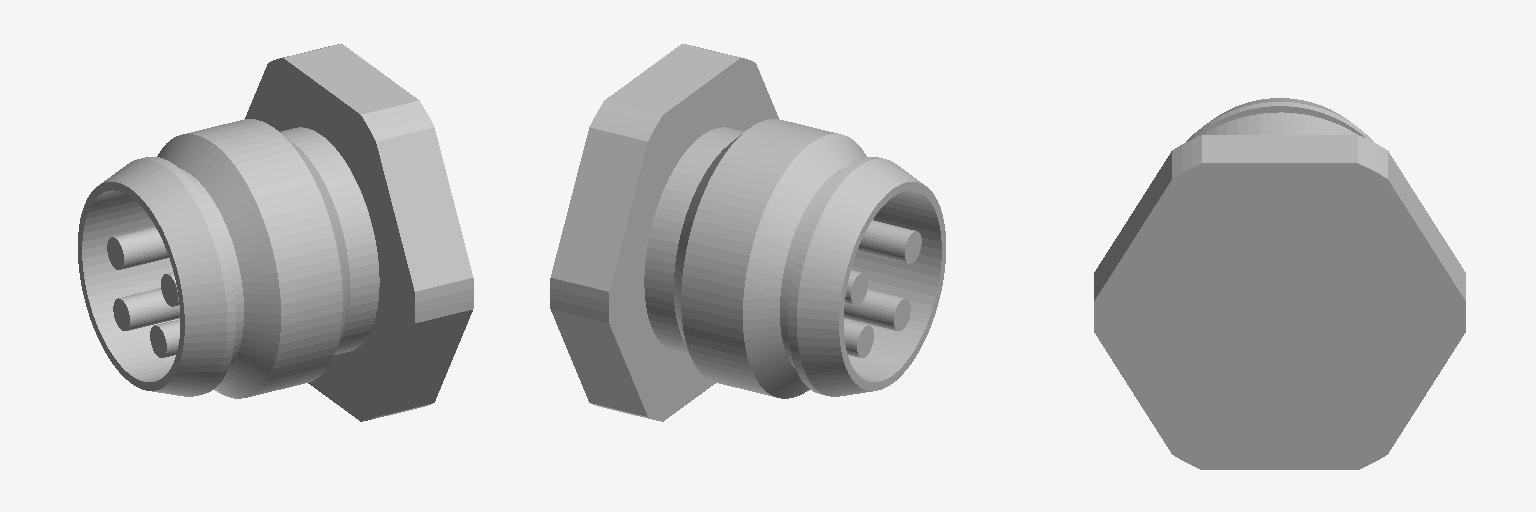
The model's file is wsg50_110 v1_wsg50_110 v1_3_1_Body1_3.obj.
The picture shows the model from 3 angles: view 1: azimuth 30°, elevation 25°; view 2: azimuth 150°, elevation 25°; view 3: azimuth 270°, elevation 25°; orthographic projection.
Visible parts, largest first — view 1: Body1; view 2: Body1; view 3: Body1.
Boxes of the visible parts, x1,y1,x2,y2 form: Body1: [78, 44, 473, 421]; Body1: [550, 44, 945, 421]; Body1: [1094, 98, 1465, 469].
Size of the model in its own units: 0.0085 by 0.01 by 0.011.